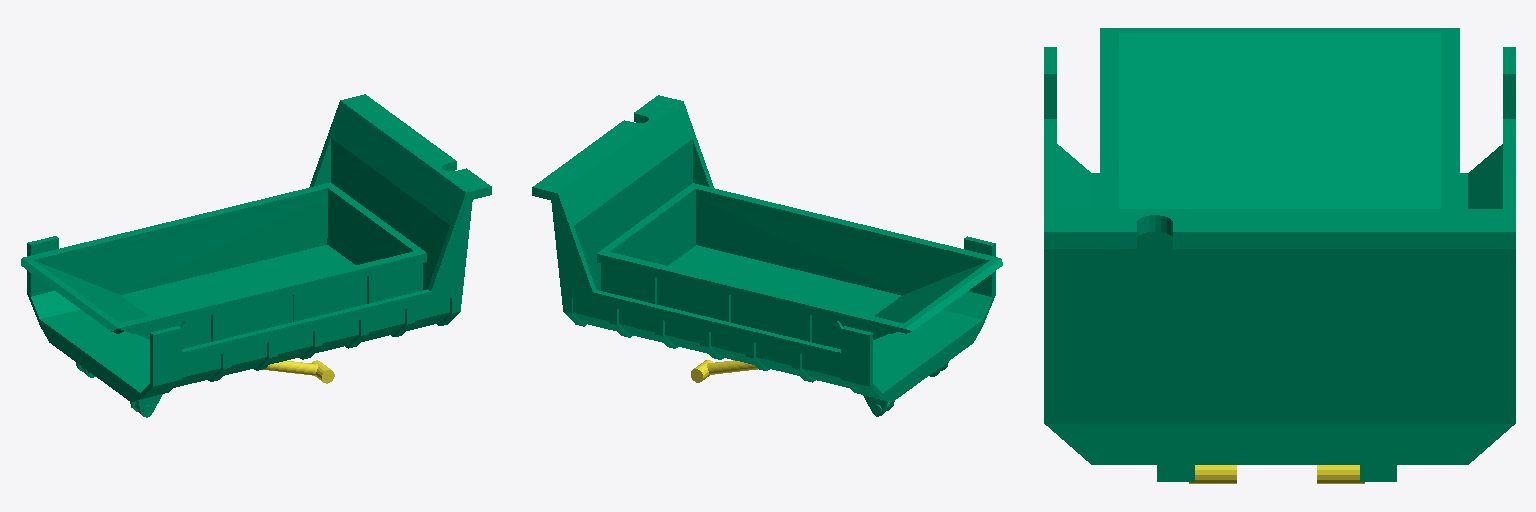
URDF robot description (ic120):
<?xml version="1.0" encoding="utf-8"?>
<!-- =================================================================================== -->
<!-- |    This document was autogenerated by xacro from ic120.xacro                    | -->
<!-- |    EDITING THIS FILE BY HAND IS NOT RECOMMENDED                                 | -->
<!-- =================================================================================== -->
<robot name="ic120">
  <!-- ros_control plugin -->
  <gazebo>
    <plugin filename="libgazebo_ros_control.so" name="gazebo_ros_control">
      <robotNamespace>/ic120</robotNamespace>
      <robotSimType>gazebo_ros_control/DefaultRobotHWSim</robotSimType>
    </plugin>
  </gazebo>
  <!-- Link1 -->
  <gazebo reference="link1">
    <material>ic120texture</material>
  </gazebo>
  <!-- Link2 -->
  <gazebo reference="link2">
    <material>ic120texture</material>
  </gazebo>
  <gazebo reference="link3">
    <material>ic120texture</material>
  </gazebo>
  <gazebo reference="link4">
    <material>ic120texture</material>
  </gazebo>
  <!--
	<material name="black">
		<color rgba="0.0 0.0 0.0 1.0"/>
	</material>

	<material name="blue">
		<color rgba="0.0 0.0 0.8 1.0"/>
	</material>

	<material name="green">
		<color rgba="0.0 0.8 0.0 1.0"/>
	</material>

	<material name="grey">
		<color rgba="0.2 0.2 0.2 1.0"/>
	</material>

	<material name="orange">
		<color rgba="${255/255} ${108/255} ${10/255} 1.0"/>
	</material>

	<material name="brown">
		<color rgba="${222/255} ${207/255} ${195/255} 1.0"/>
	</material>

	<material name="red">
		<color rgba="0.8 0.0 0.0 1.0"/>
	</material>

	<material name="white">
		<color rgba="1.0 1.0 1.0 1.0"/>
	</material>

	<material name="model01color">
		<color rgba="0.0 1.0 1.0 0.7"/>
	</material>
	-->
  <!-- Used for fixing robot to Gazebo 'base_link' -->
  <link name="world"/>
  <joint name="fixed" type="fixed">
    <parent link="world"/>
    <child link="link1"/>
  </joint>
  <!-- Base Link -->
  <link name="link1">
    <visual>
      <geometry>
        <mesh filename="package://meshes/ic120-body.dae"/>
      </geometry>
    </visual>
    <collision>
      <geometry>
        <mesh filename="package://meshes/ic120-body.dae"/>
      </geometry>
    </collision>
    <inertial>
      <origin rpy="0 0 0" xyz="0.8963 0.1313 1.35"/>
      <mass value="1"/>
      <inertia ixx="1.0" ixy="0.0" ixz="0.0" iyy="1.0" iyz="0.0" izz="1.0"/>
    </inertial>
  </link>
  <!-- bucket axis -->
  <joint name="joint1" type="revolute">
    <origin xyz="-3.015332 0 0.946052"/>
    <axis xyz="0 1 0"/>
    <parent link="link1"/>
    <child link="link2"/>
    <limit effort="30" lower="-1.1344640138" upper="0" velocity="6.159937255"/>
    <!-- max bucket angle 65 deg -->
    <!--dynamics damping="0.7"/-->
  </joint>
  <link name="link2">
    <visual>
      <origin xyz="0 0 0"/>
      <geometry>
        <mesh filename="package://meshes/ic120-bucket.dae"/>
      </geometry>
    </visual>
    <collision>
      <origin xyz="0 0 0"/>
      <geometry>
        <mesh filename="package://meshes/ic120-bucket.dae"/>
      </geometry>
    </collision>
    <inertial>
      <origin rpy="0 0 0" xyz="1.978 0.0181 0.773"/>
      <mass value="1"/>
      <inertia ixx="1.0" ixy="0.0" ixz="0.0" iyy="1.0" iyz="0.0" izz="1.0"/>
    </inertial>
  </link>
  <!-- cylinder outer axis -->
  <joint name="joint2" type="continuous">
    <origin xyz="-0.75792 0 0.73083"/>
    <axis xyz="0 1 0"/>
    <parent link="link1"/>
    <child link="link3"/>
    <mimic joint="joint1" multiplier="-0.088"/>
  </joint>
  <!-- cylinder outer angle -->
  <gazebo>
    <plugin filename="libroboticsgroup_upatras_gazebo_mimic_joint_plugin.so" name="joint2_mimic_joint_plugin">
      <joint>joint1</joint>
      <mimicJoint>joint2</mimicJoint>
      <multiplier>-0.088</multiplier>
      <!-- bucket 65 deg => cylinder outer 5.72 deg -->
      <offset>0</offset>
      <robotNamespace>/ic120</robotNamespace>
    </plugin>
  </gazebo>
  <link name="link3">
    <visual>
      <origin xyz="0 0 0"/>
      <geometry>
        <mesh filename="package://meshes/ic120-cylinder1.dae"/>
      </geometry>
    </visual>
    <collision>
      <origin xyz="0 0 0"/>
      <geometry>
        <mesh filename="package://meshes/ic120-cylinder1.dae"/>
      </geometry>
    </collision>
    <inertial>
      <origin rpy="0 0 0" xyz="-0.4842 0 0.1667"/>
      <mass value="1"/>
      <inertia ixx="1.0" ixy="0.0" ixz="0.0" iyy="1.0" iyz="0.0" izz="1.0"/>
    </inertial>
  </link>
  <!-- cylinder inner prismatic joint -->
  <joint name="joint3" type="prismatic">
    <origin xyz="0 0 0"/>
    <parent link="link3"/>
    <child link="link4"/>
    <axis xyz="-1.4989 0 0.51788"/>
    <limit effort="30" lower="-1" upper="1" velocity="6.159937255"/>
    <mimic joint="joint1" multiplier="-0.705178824776"/>
  </joint>
  <!-- cylinder inner position -->
  <gazebo>
    <plugin filename="libroboticsgroup_upatras_gazebo_mimic_joint_plugin.so" name="joint3_mimic_joint_plugin">
      <joint>joint1</joint>
      <mimicJoint>joint3</mimicJoint>
      <multiplier>-0.705178824776</multiplier>
      <!-- bucket 65 deg => cylinder inner 0.8 m -->
      <offset>0</offset>
      <robotNamespace>/ic120</robotNamespace>
    </plugin>
  </gazebo>
  <link name="link4">
    <visual>
      <origin xyz="0 0 0"/>
      <geometry>
        <mesh filename="package://meshes/ic120-cylinder2.dae"/>
      </geometry>
    </visual>
    <collision>
      <origin xyz="0 0 0"/>
      <geometry>
        <mesh filename="package://meshes/ic120-cylinder2.dae"/>
      </geometry>
    </collision>
    <inertial>
      <origin rpy="0 0 0" xyz="-0.8807 0 0.3033"/>
      <mass value="1"/>
      <inertia ixx="1.0" ixy="0.0" ixz="0.0" iyy="1.0" iyz="0.0" izz="1.0"/>
    </inertial>
  </link>
  <transmission name="tran1">
    <type>transmission_interface/SimpleTransmission</type>
    <joint name="joint1">
      <hardwareInterface>hardware_interface/EffortJointInterface</hardwareInterface>
    </joint>
    <actuator name="motor1">
      <hardwareInterface>hardware_interface/EffortJointInterface</hardwareInterface>
      <mechanicalReduction>1</mechanicalReduction>
    </actuator>
  </transmission>
</robot>

--- Facts derived from the render (not from the file) ---
Views: 3 orthographic renders of the robot side by side, from view 1: azimuth 30°, elevation 25°; view 2: azimuth 150°, elevation 25°; view 3: azimuth 270°, elevation 25°.
Model ic120 with 5 links and 4 joints (1 revolute, 1 continuous, 1 prismatic, 1 fixed), rooted at world, posed all joints at 0.
Links seen in each view (by area): view 1: link2, link3; view 2: link2, link3; view 3: link2, link3.
Boxes of the visible links, x1=… form: link2: x1=21, y1=94, x2=491, y2=417; link3: x1=263, y1=360, x2=334, y2=383; link2: x1=532, y1=95, x2=1002, y2=416; link3: x1=691, y1=360, x2=757, y2=382; link2: x1=1044, y1=28, x2=1515, y2=481; link3: x1=1189, y1=465, x2=1364, y2=483.
Bounding box of the posed robot: 4.32 × 2.6 × 2.22 m (x, y, z).
Meshes: 4 distinct files referenced, 3 mesh visuals loaded (3 Collada DAE); not drawn: 1 (reference not matched to a file when rendering).